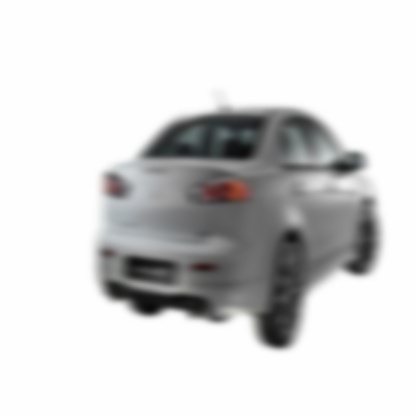Vehicle: (94, 87, 379, 348)
